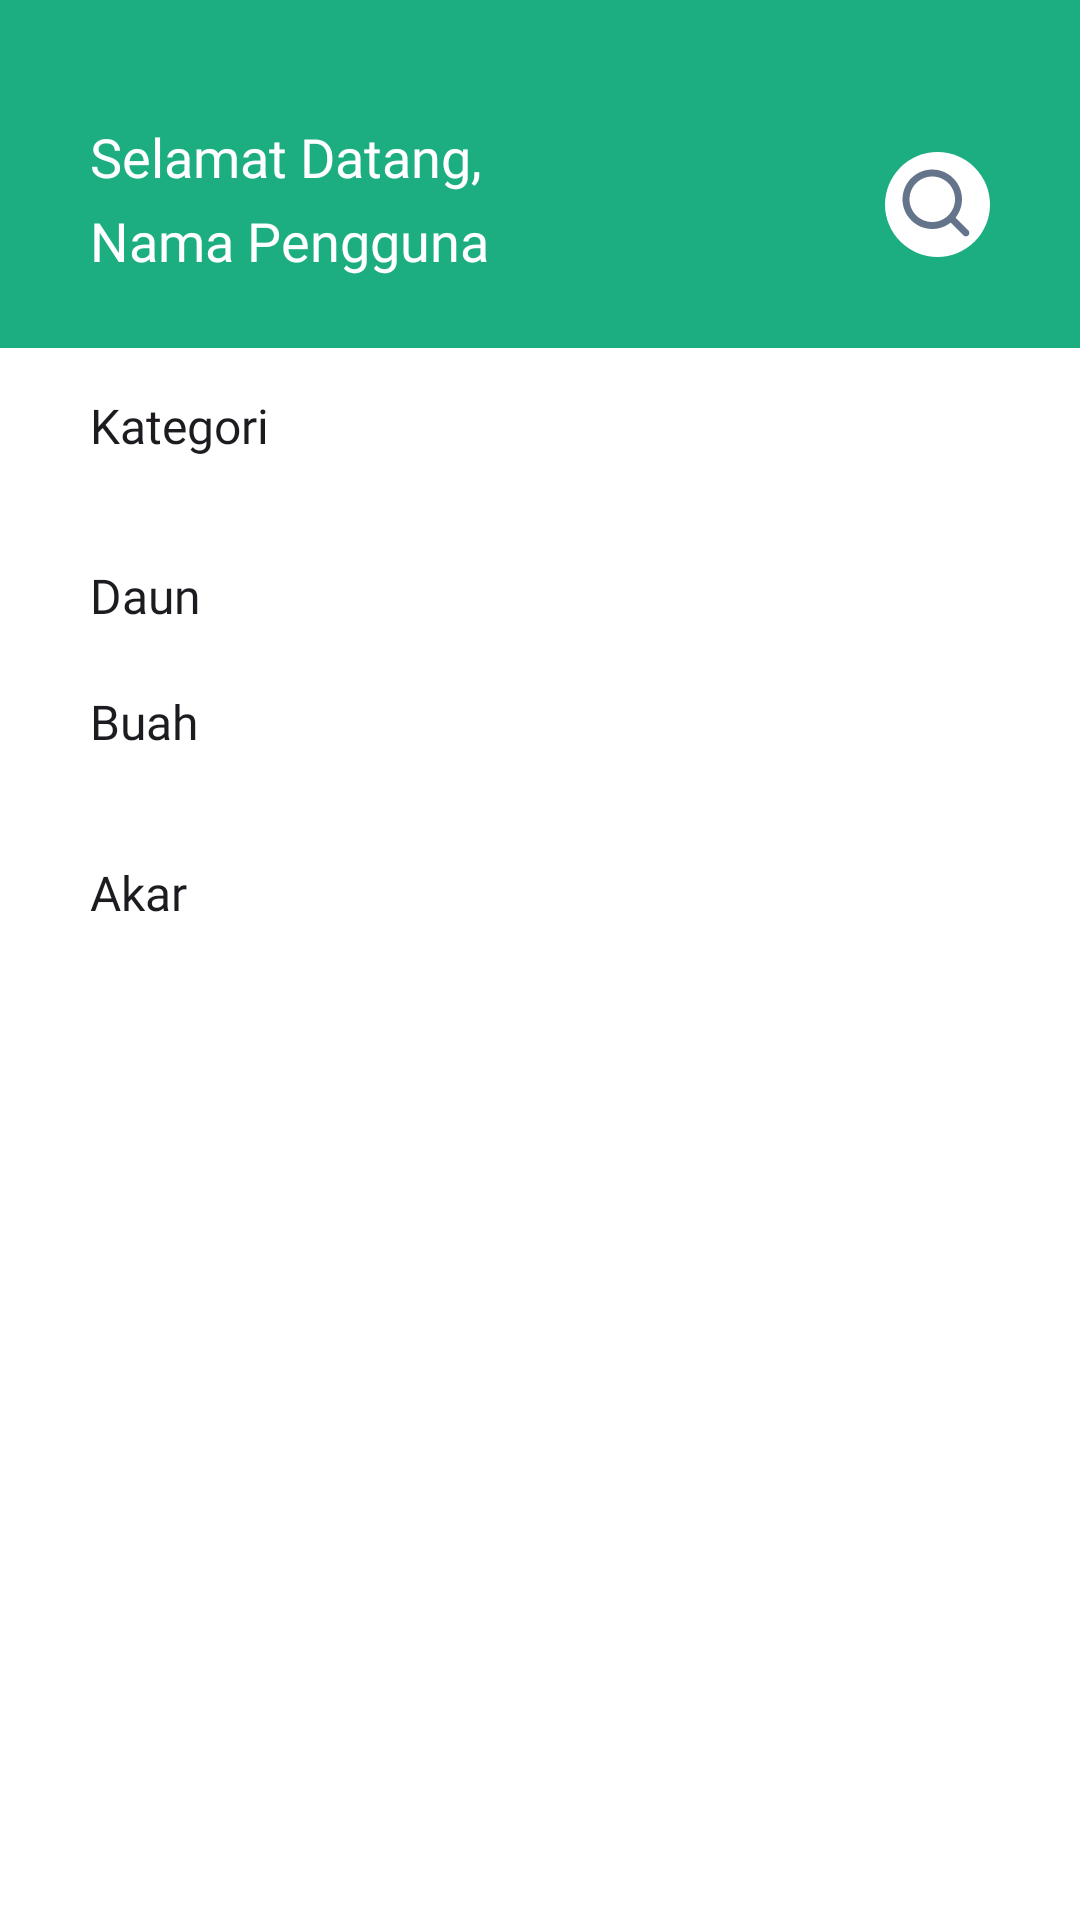

Named icons in this screenshot (1080 x 1920) and their centers, (x,y):
Ikon Cari: (937,204)
